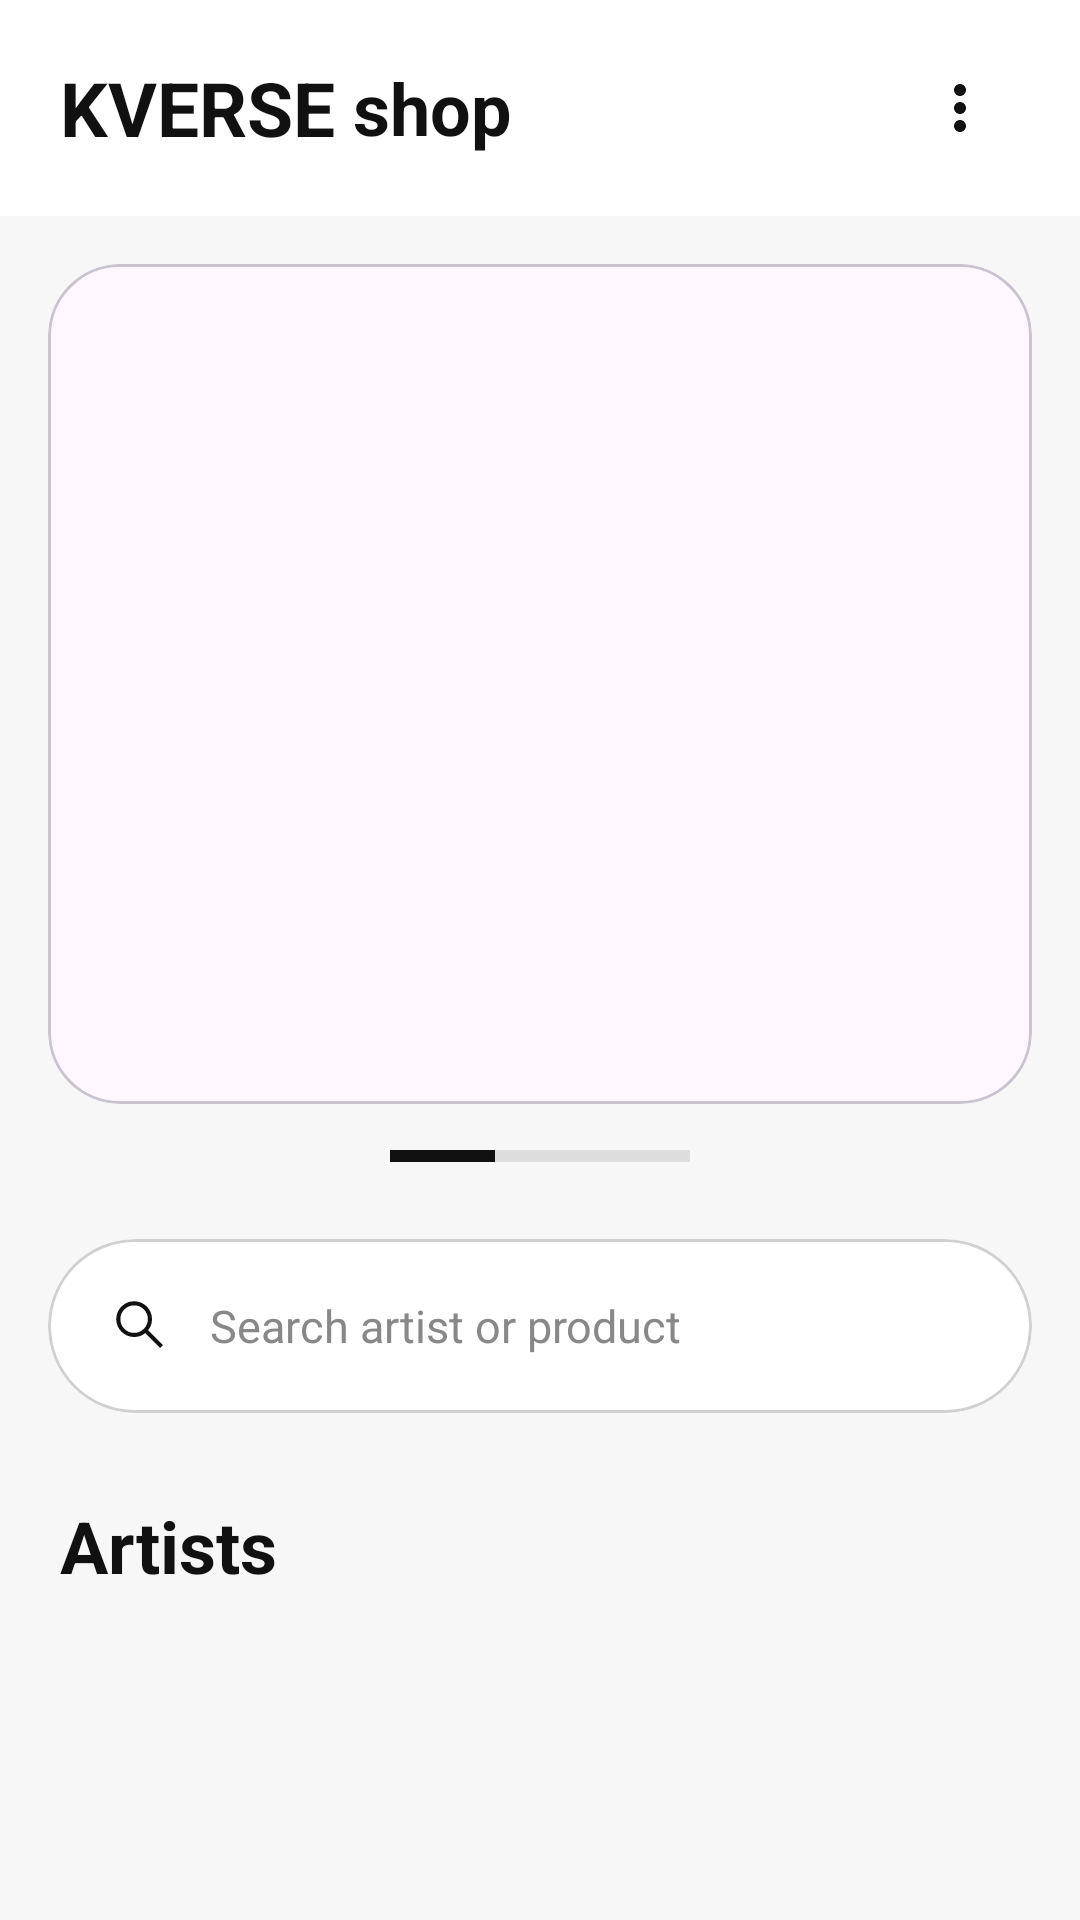

Screen size 1080w x 1920h. Icon name, then its box in pixels as (x1, y1, x2, y2):
Menu: (954, 84, 966, 132)
